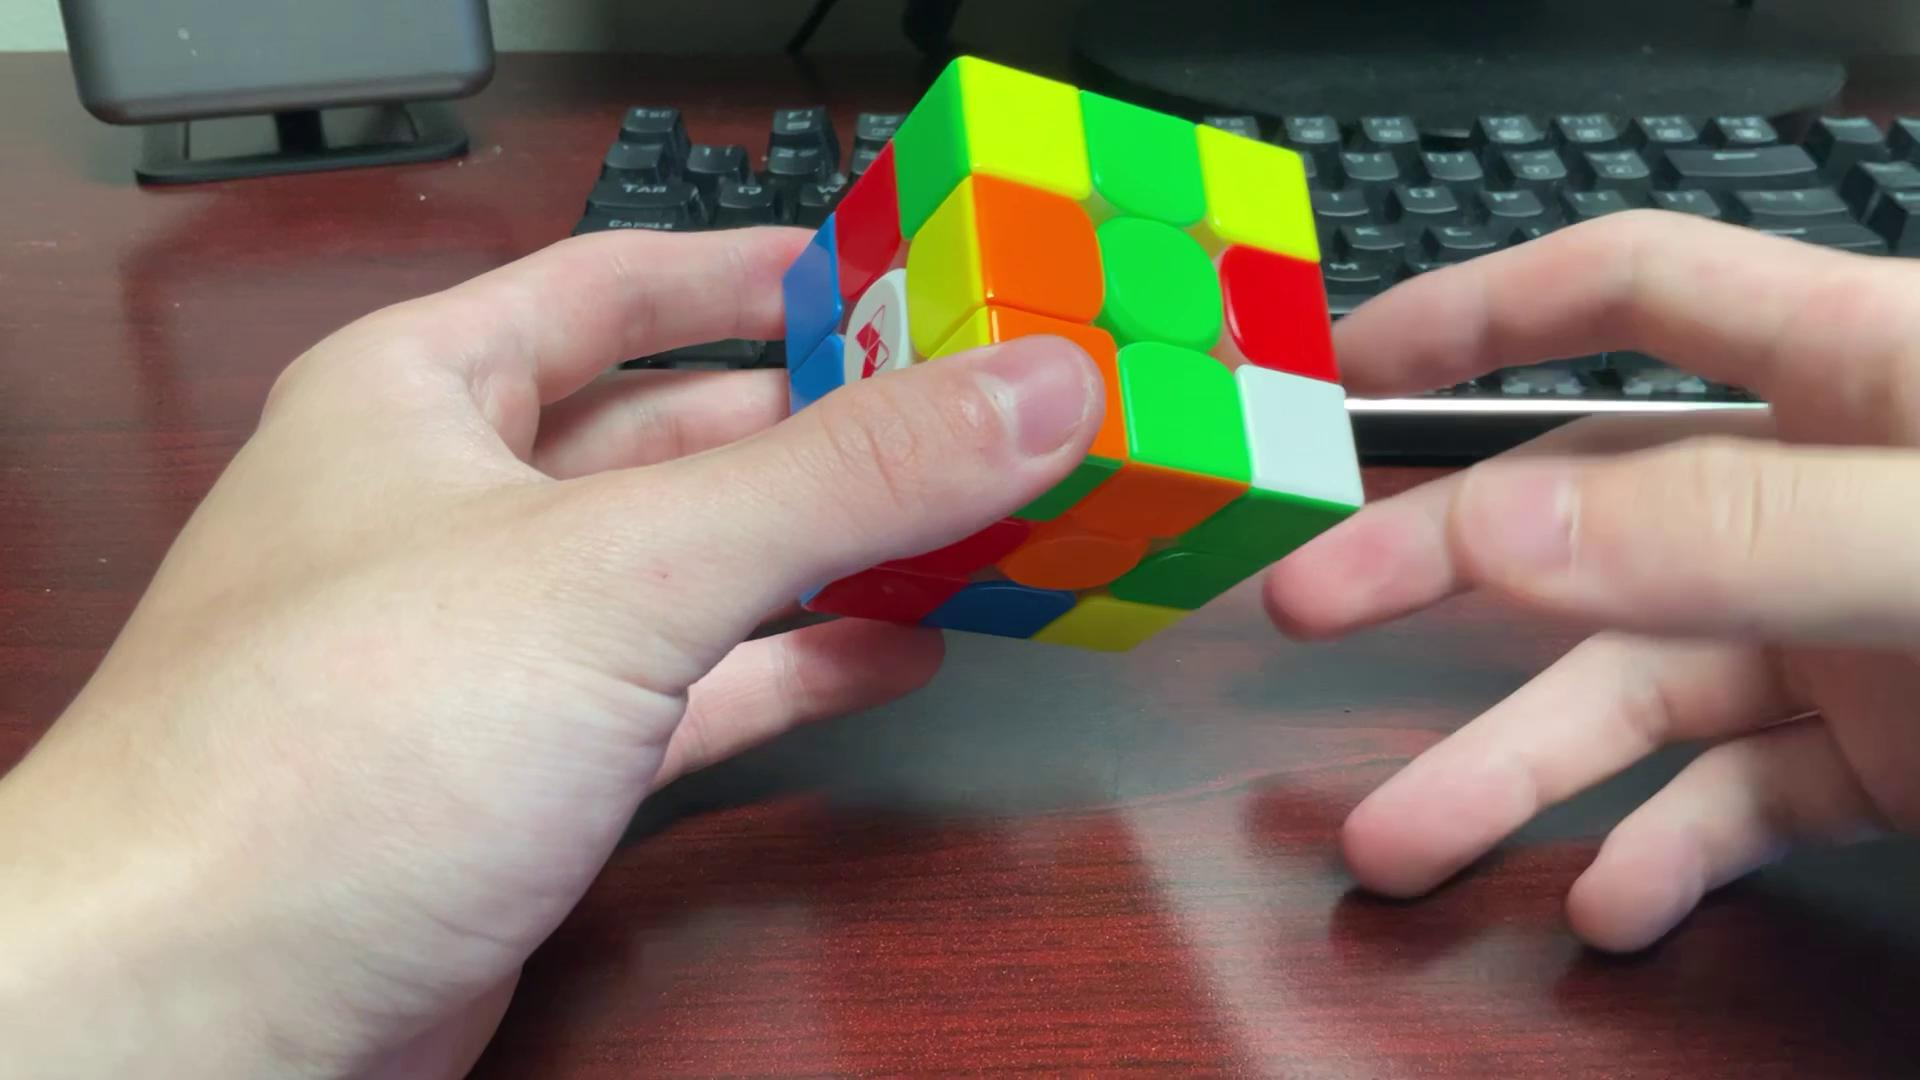Rubiks-Cube: (777, 46, 1367, 662)
